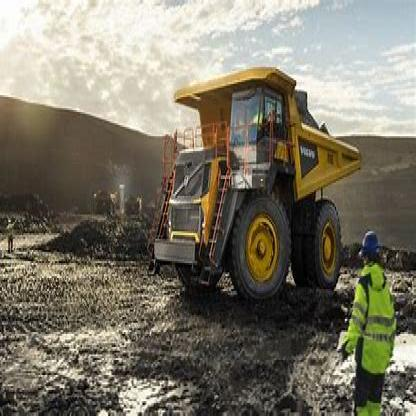dump_truck: (156, 61, 358, 306)
